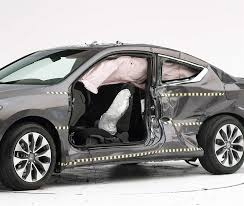Smashed: (51, 43, 238, 163)
